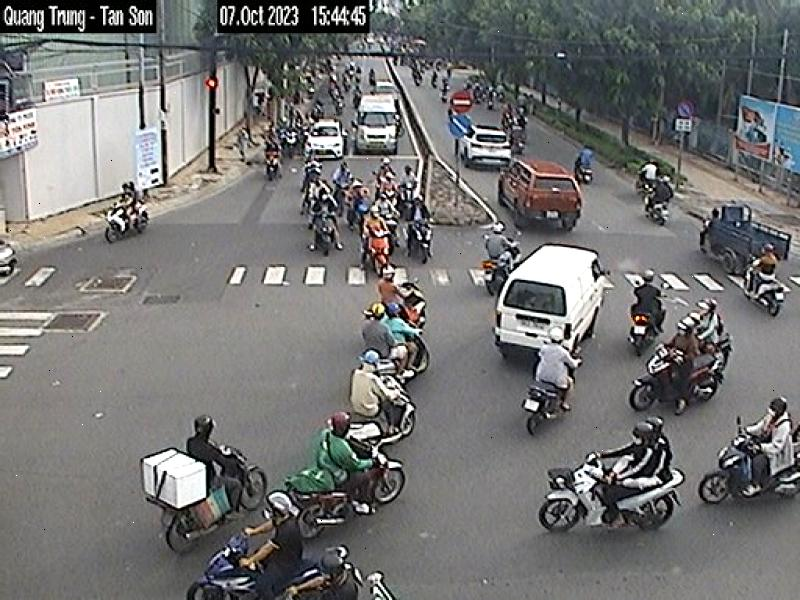car: (493, 157, 582, 236), (351, 92, 405, 159), (460, 123, 512, 169), (306, 116, 348, 160)
motorcycle: (130, 436, 274, 552), (529, 450, 696, 536), (271, 446, 422, 539), (182, 533, 358, 600), (331, 376, 440, 464), (628, 336, 748, 412), (693, 422, 800, 504), (519, 363, 581, 439), (734, 264, 799, 318), (624, 311, 666, 357), (407, 220, 442, 259), (363, 227, 392, 274)
truck: (494, 242, 612, 366), (696, 202, 788, 277)
